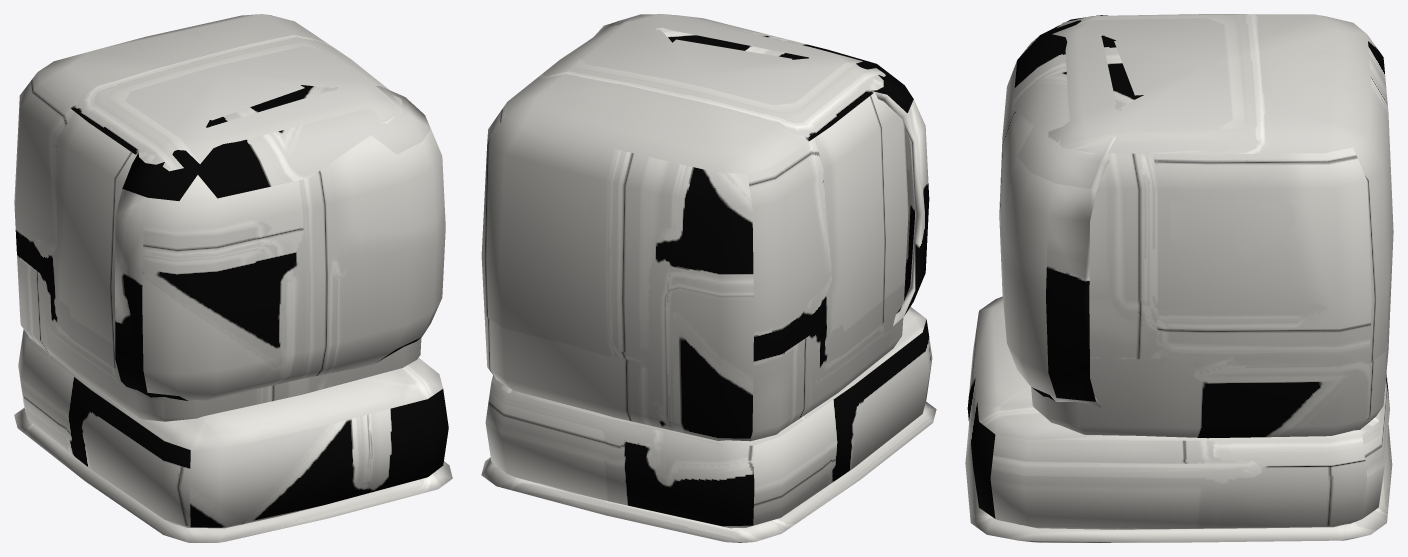
The model's file is Centinela_GrebaIzq.fbx.
3 views of the same model, side by side, from view 1: azimuth 30°, elevation 25°; view 2: azimuth 150°, elevation 25°; view 3: azimuth 270°, elevation 25° (orthographic). The views are drawn at different scales.
Parts seen in each view (by area): view 1: Centinela_GrebaIzq; view 2: Centinela_GrebaIzq; view 3: Centinela_GrebaIzq.
Part boxes in pixels (x1,y1,x2,y2): Centinela_GrebaIzq: (14,14,452,542); Centinela_GrebaIzq: (481,14,936,542); Centinela_GrebaIzq: (965,14,1393,542).
Bounding box in the file's own units: 1.25 × 1.37 × 1.3.
